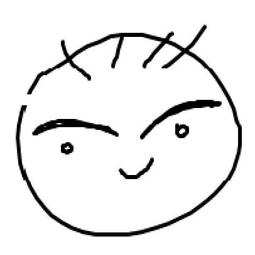eyebrow: (27, 114, 124, 139)
frowning_eyebrow: (142, 97, 221, 141)
mouth: (113, 153, 158, 184)
small_eye: (55, 139, 76, 157), (174, 122, 193, 141)
